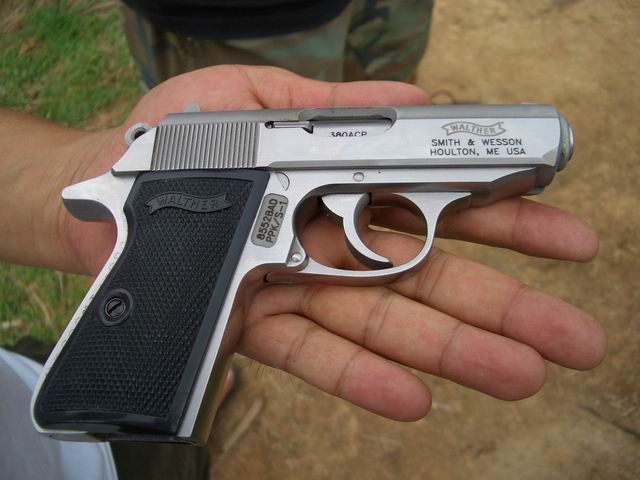gun: (21, 94, 584, 455)
